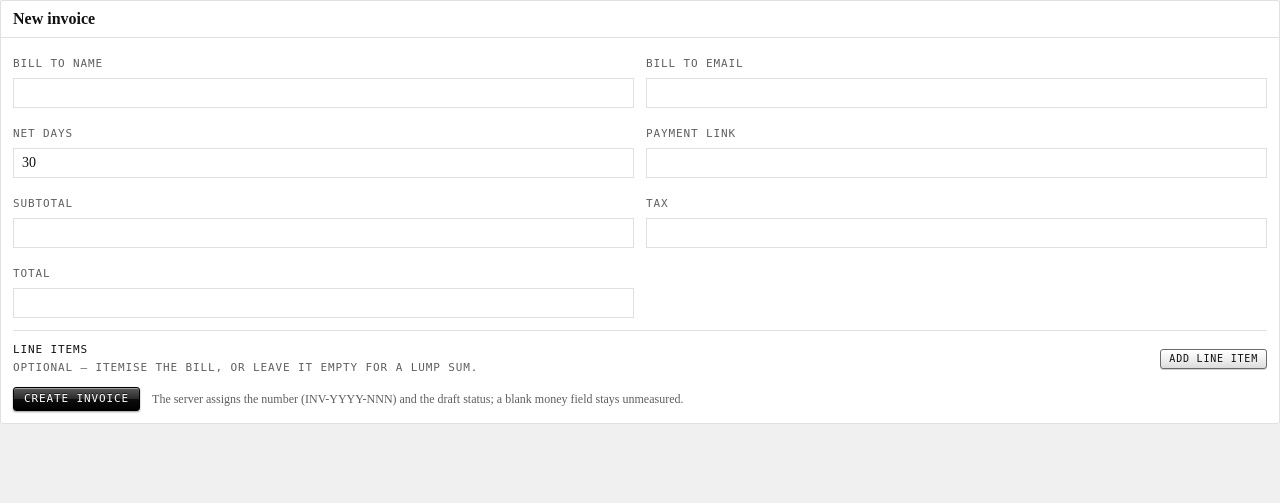
InvoiceCreateForm — line items (W1 GAP-2) › a non-numeric quantity is refused by name before submit
This screenshot has width=1280, height=503.
Click the button "Add line item": (1214, 359) 1160,349 -> 1267,368
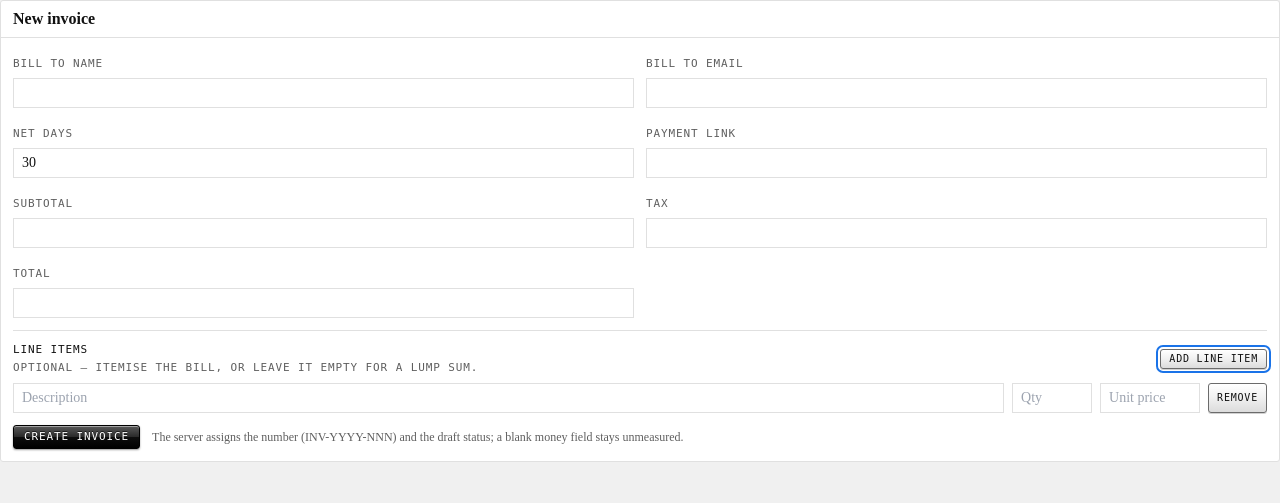
In the field with placeholder "Description": (509, 398) 13,382 -> 1004,412, type "Logo design"
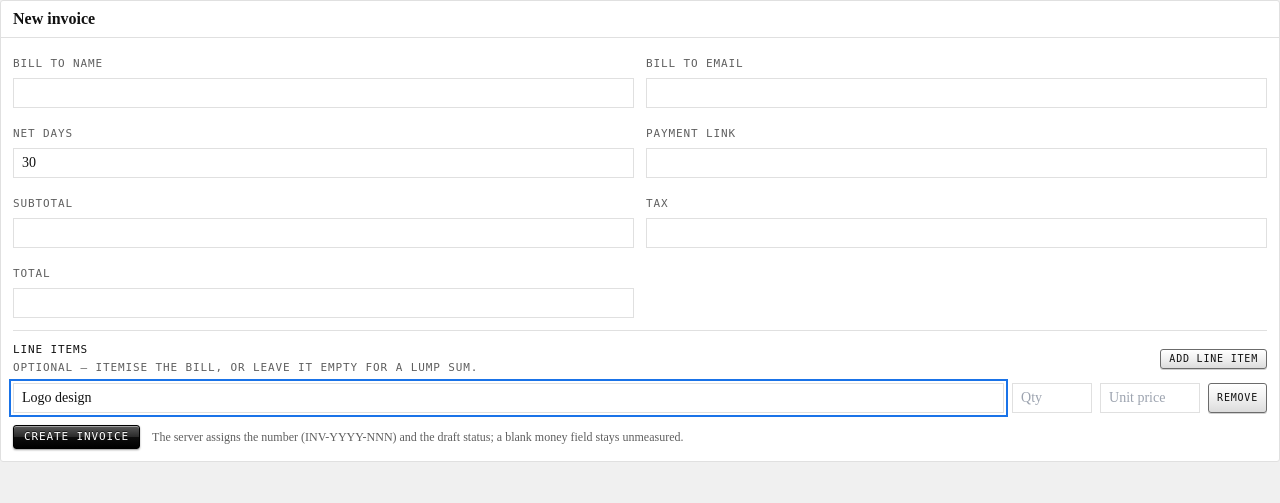
In the field named "Line item 1 quantity": (1052, 398) 1012,382 -> 1092,412, type "two"
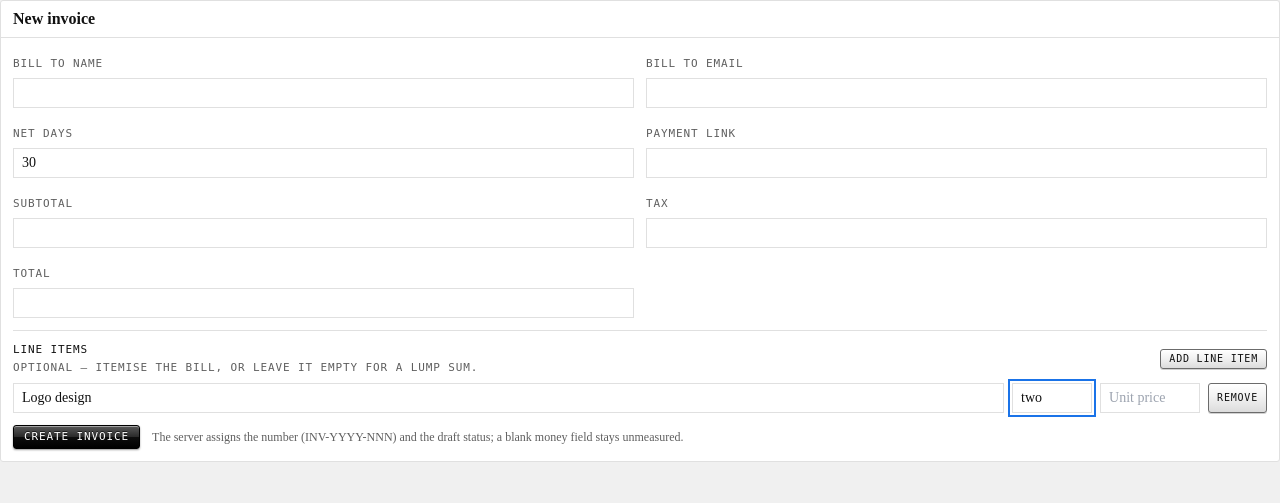
Click the button "Create invoice": (76, 437) 13,424 -> 140,449
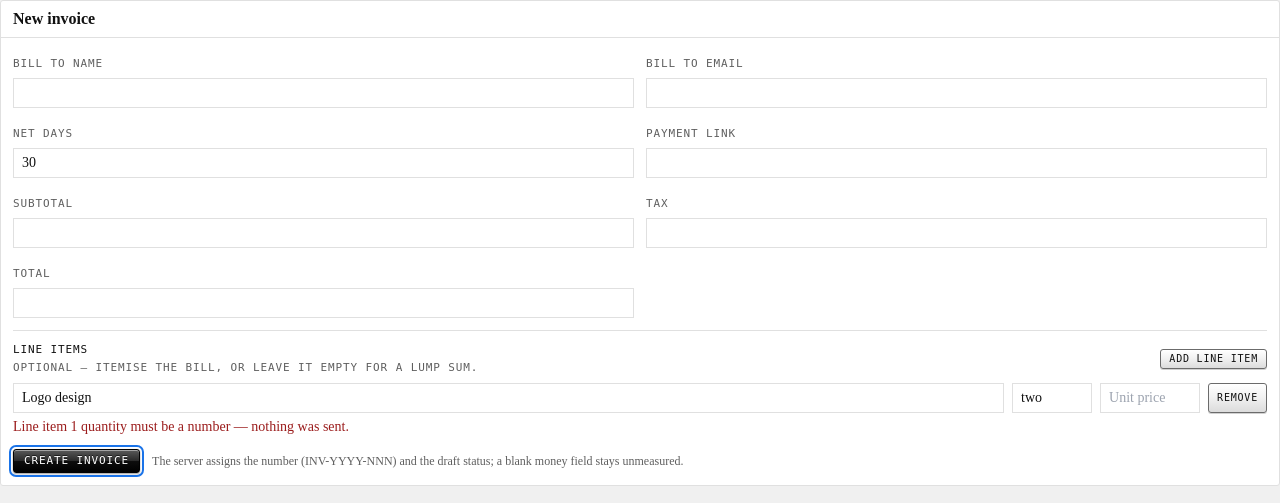
expect the message shows "Line item 1 quantity must be a number": met, box 13,418 -> 349,434
